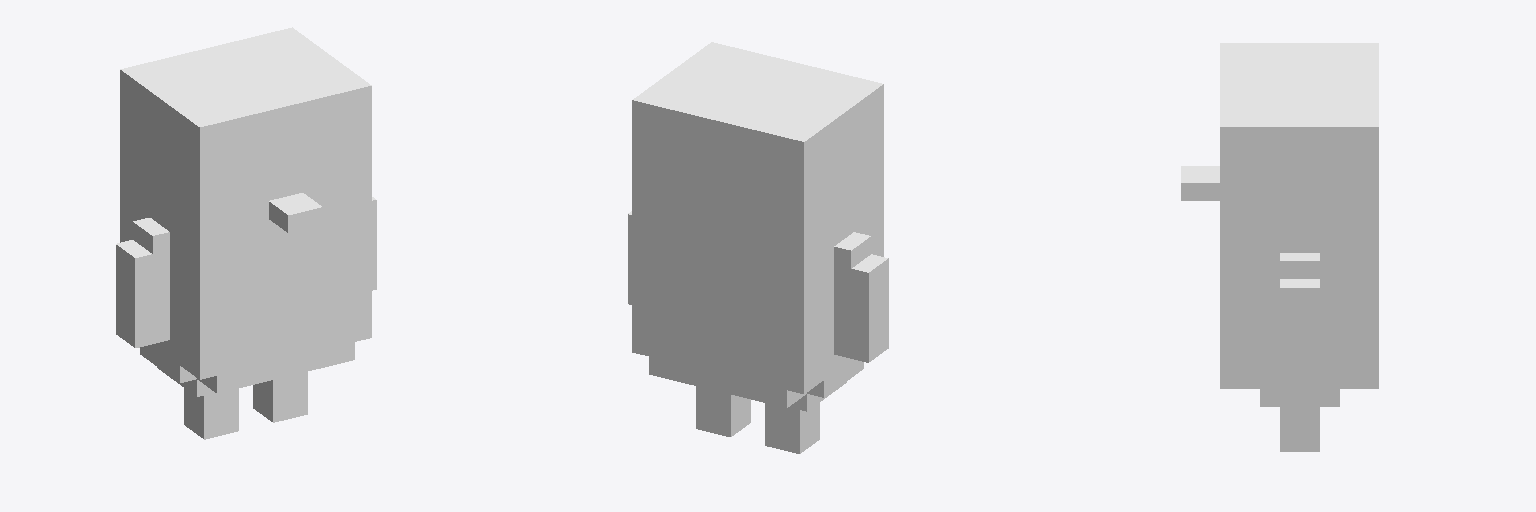
File: baldMaleCustomer.obj
3 renders of one model, left to right at view 1: azimuth 30°, elevation 25°; view 2: azimuth 150°, elevation 25°; view 3: azimuth 270°, elevation 25°, orthographic.
Parts seen in each view (by area): view 1: baldMaleCustomer; view 2: baldMaleCustomer; view 3: baldMaleCustomer.
Part boxes in pixels (x1,y1,x2,y2): baldMaleCustomer: (116,27,376,439); baldMaleCustomer: (628,42,888,453); baldMaleCustomer: (1181,43,1378,451).
Size of the model in its own units: 14 by 19 by 10.